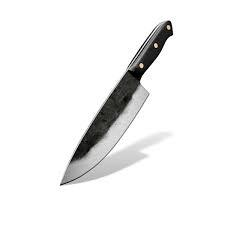Knife: (59, 19, 173, 185)
